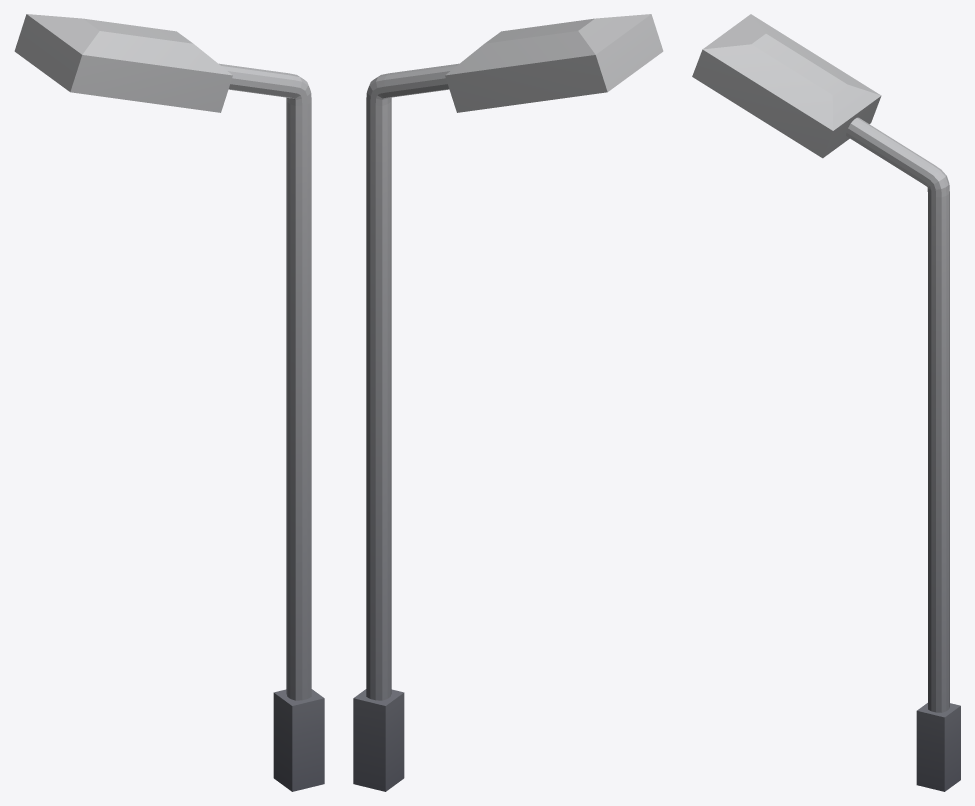
Rendered from Lampu jalan.fbx.
3 renders of one model, left to right at view 1: azimuth 30°, elevation 25°; view 2: azimuth 150°, elevation 25°; view 3: azimuth 330°, elevation 25°, orthographic. The views are drawn at different scales.
Parts seen in each view (by area): view 1: Lampu jalan; view 2: Lampu jalan; view 3: Lampu jalan.
Boxes of the visible parts, x1,y1,x2,y2 form: Lampu jalan: (14,14,324,791); Lampu jalan: (353,14,663,791); Lampu jalan: (692,14,960,791).
Size of the model in its own units: 1.69 by 4.79 by 0.6.
